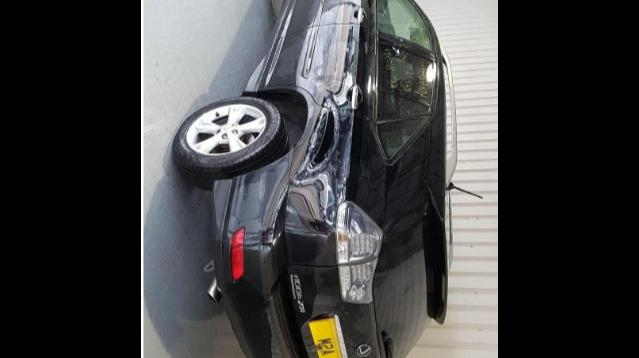Broken part: (212, 150, 300, 358)
